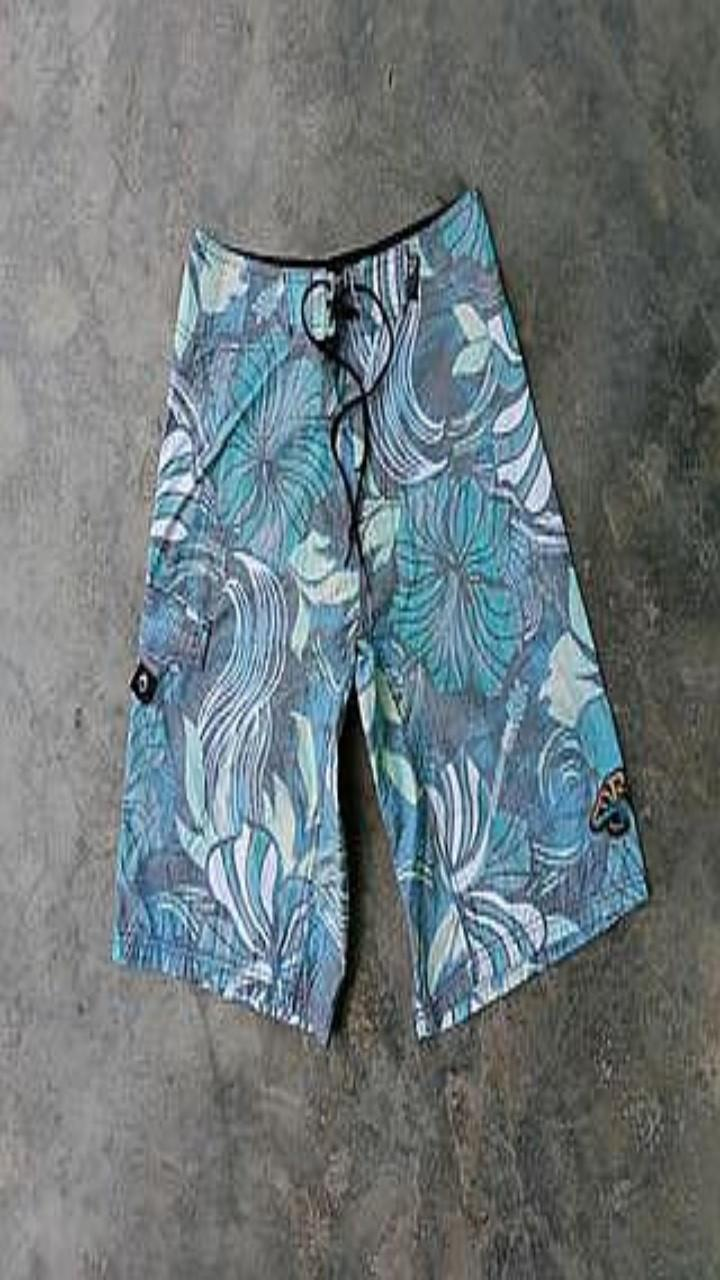Shorts: (112, 190, 647, 1043)
